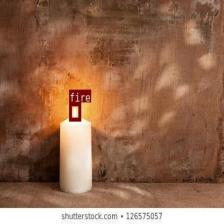fire: (68, 102, 80, 120)
